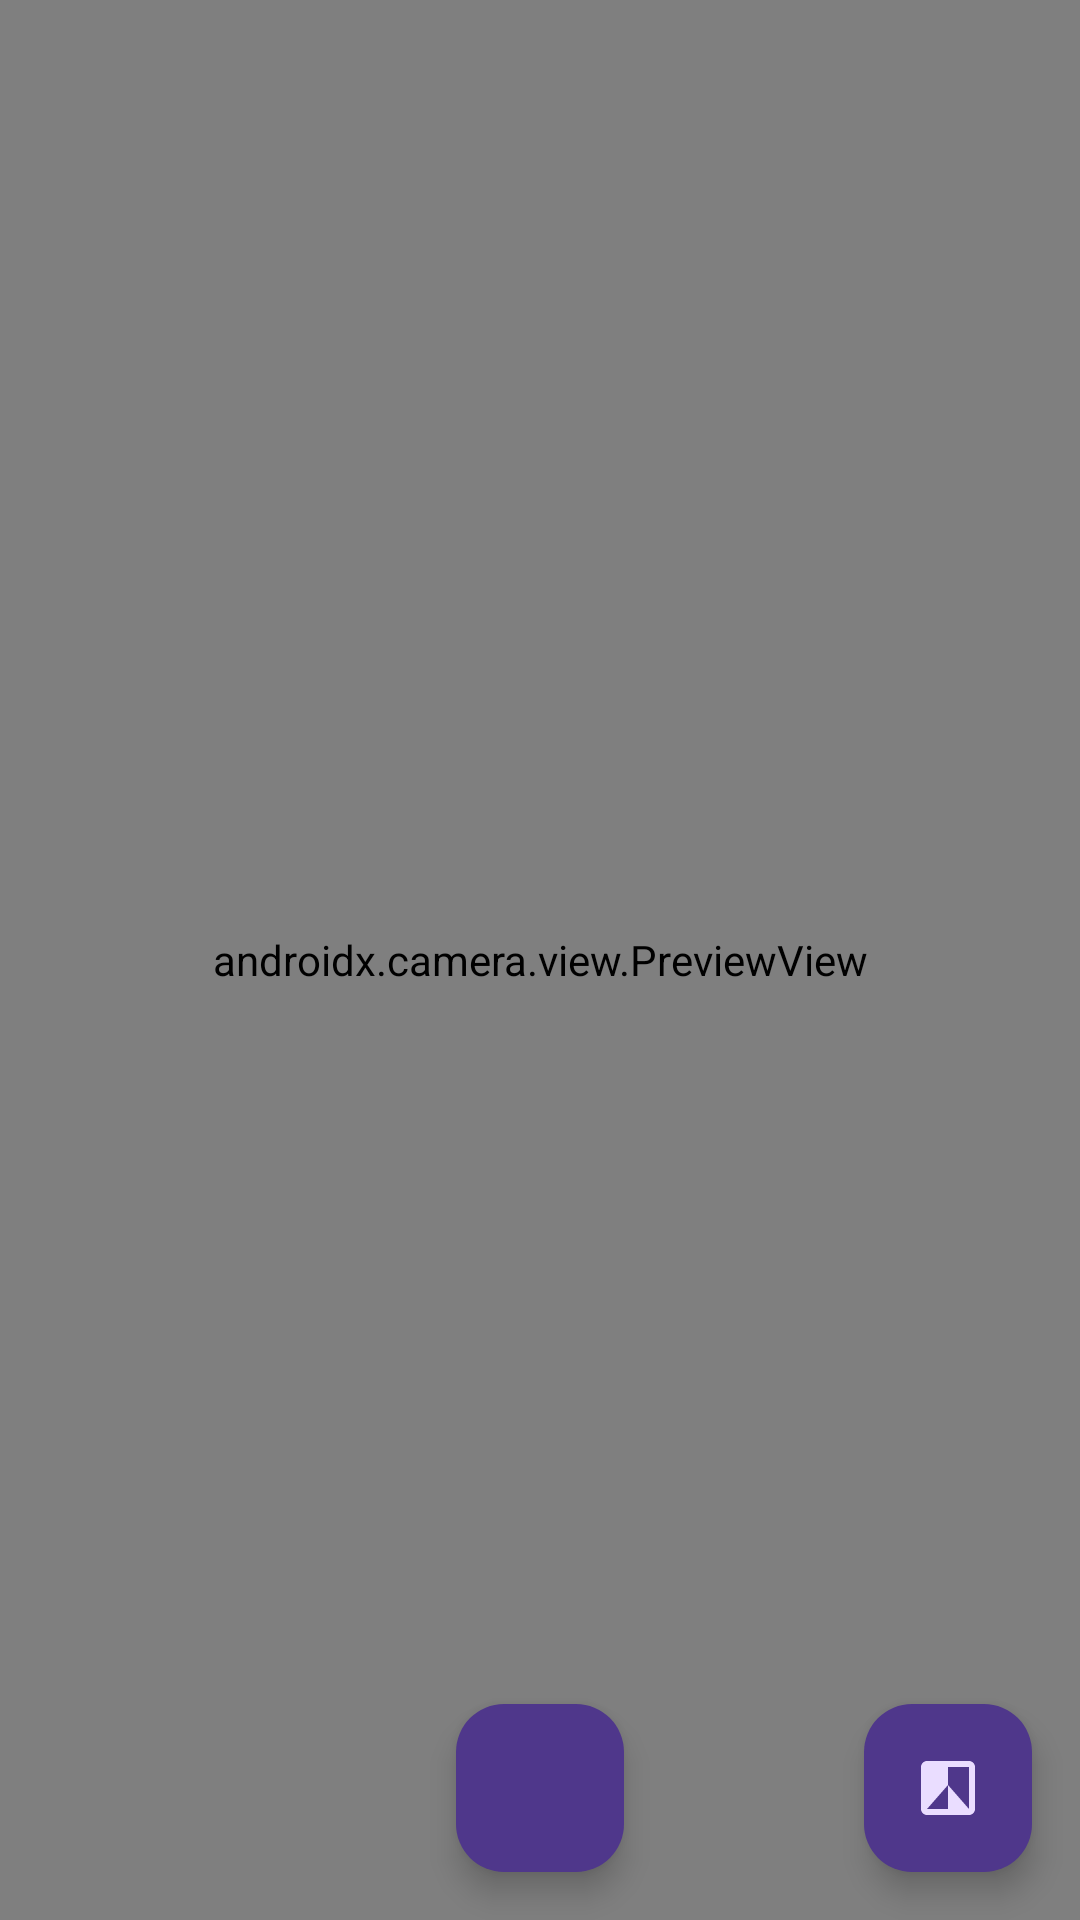

Where to tap for icons on this 1080 × 1920 app screen, as point (x, y):
filter and: point (948, 1788)
